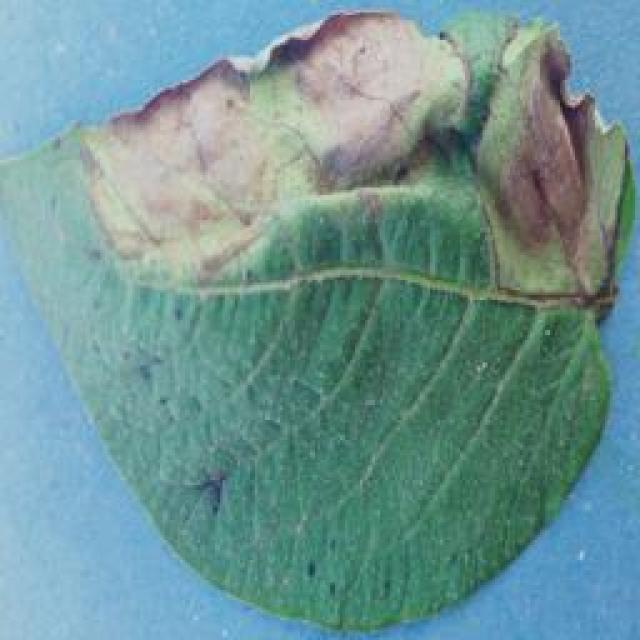Potato_Late_Blight: (13, 11, 634, 635)
